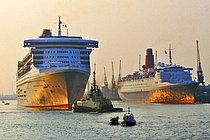Ship: (14, 14, 104, 114), (115, 46, 206, 106)
